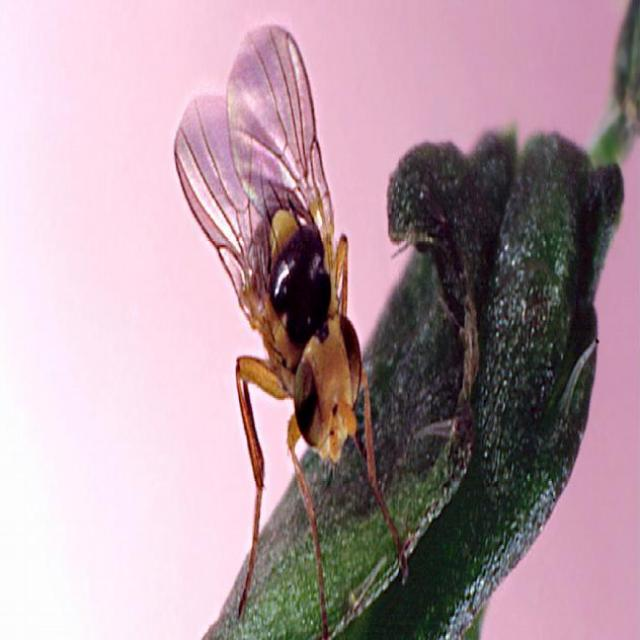Serpentine leafminer: (169, 19, 415, 640)
